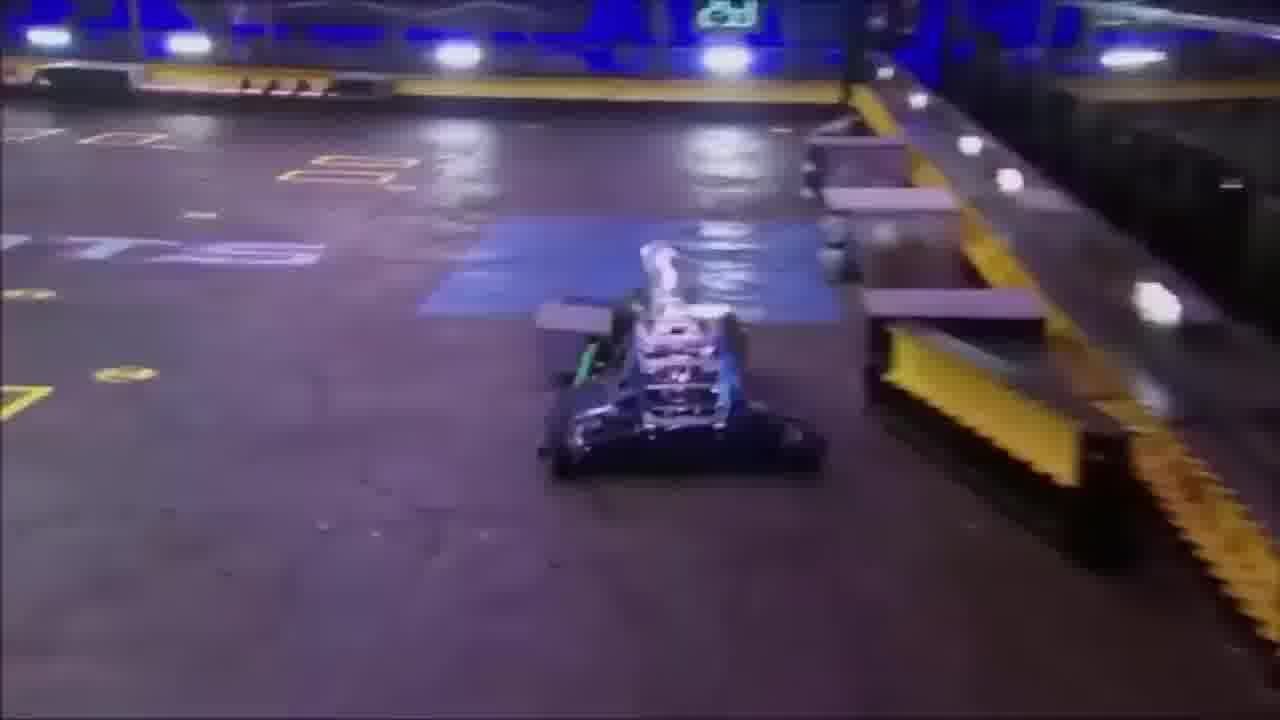combatbot: (528, 311, 826, 494)
